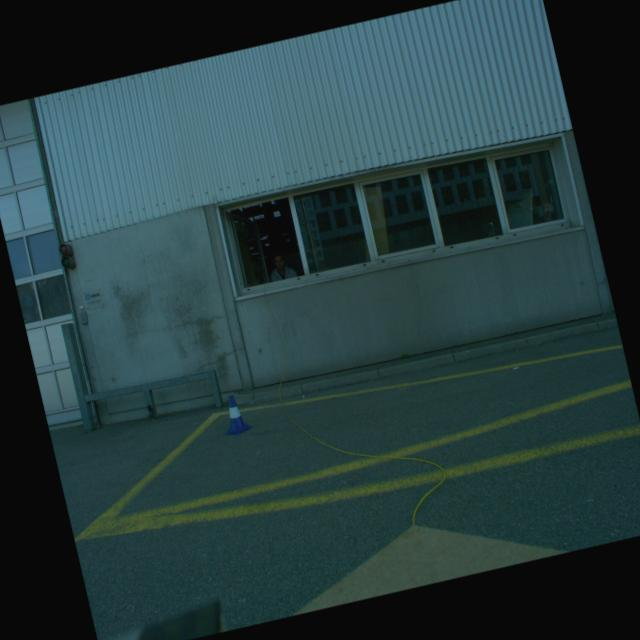blue_cone: (216, 392, 253, 438)
